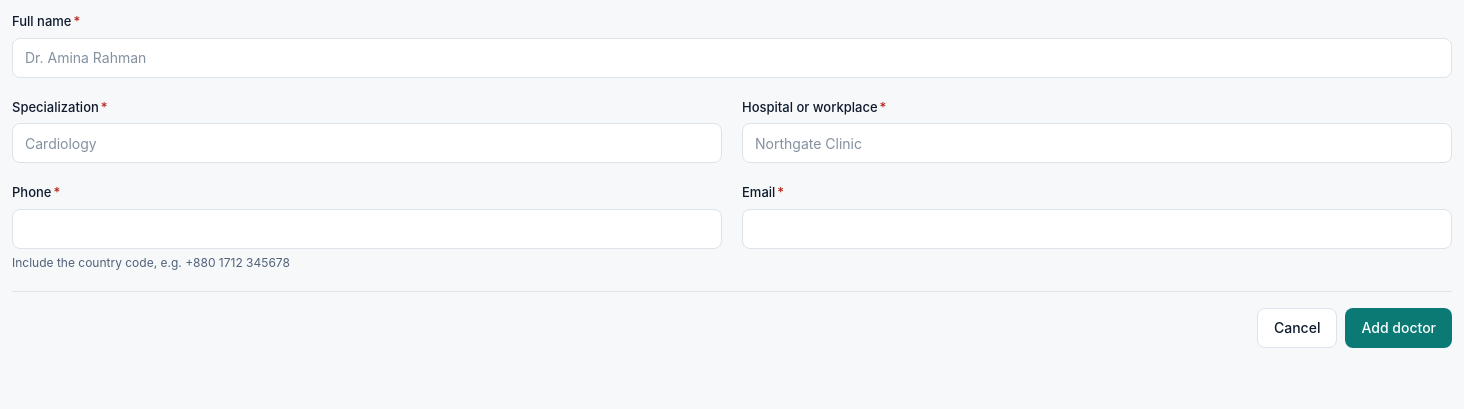
Scenario: doctor form › blocks submit and shows field errors when empty
Click the button "Add doctor": {"x": 1399, "y": 328} [1346,308,1452,348]
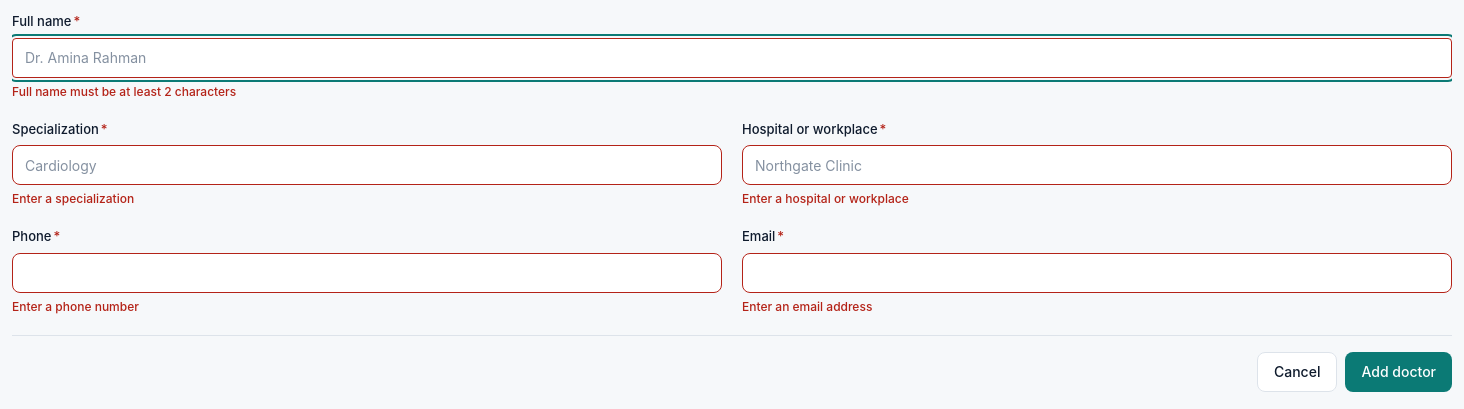
Expected: the text "Full name must be at least 2 characters" is shown, [12,84,236,98]
Expected: the text "Enter a phone number" is shown, [12,298,139,314]
